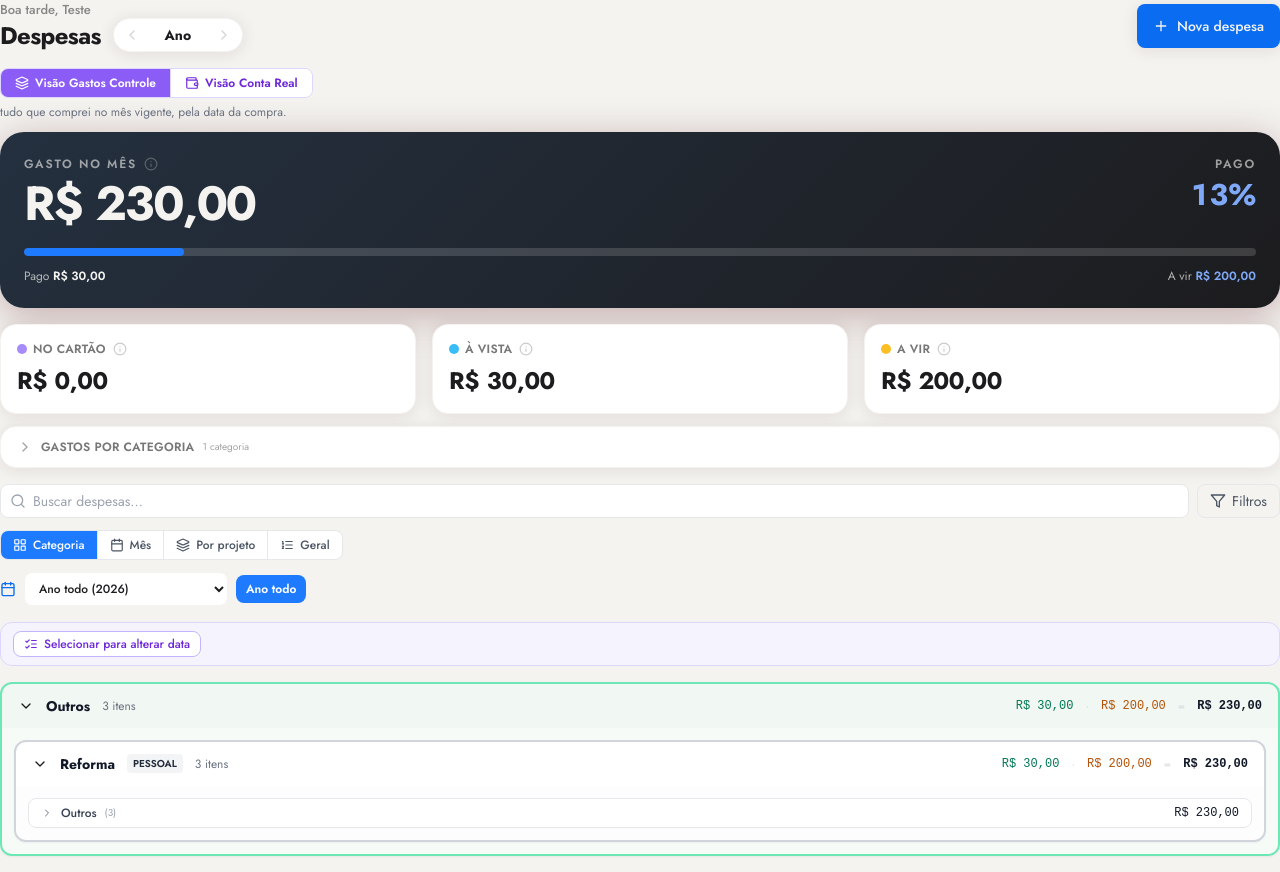
Scenario: ExpensesView — gate de import de extrato bancário (#218) › PESSOAL + hasModule('bankAccounts') true: 'Extrato bancário' presente
What coordinates should you click on to do the following:
click the button "Nova despesa"
I would click on:
 (1208, 26)
Its box is [1137, 4, 1279, 48].
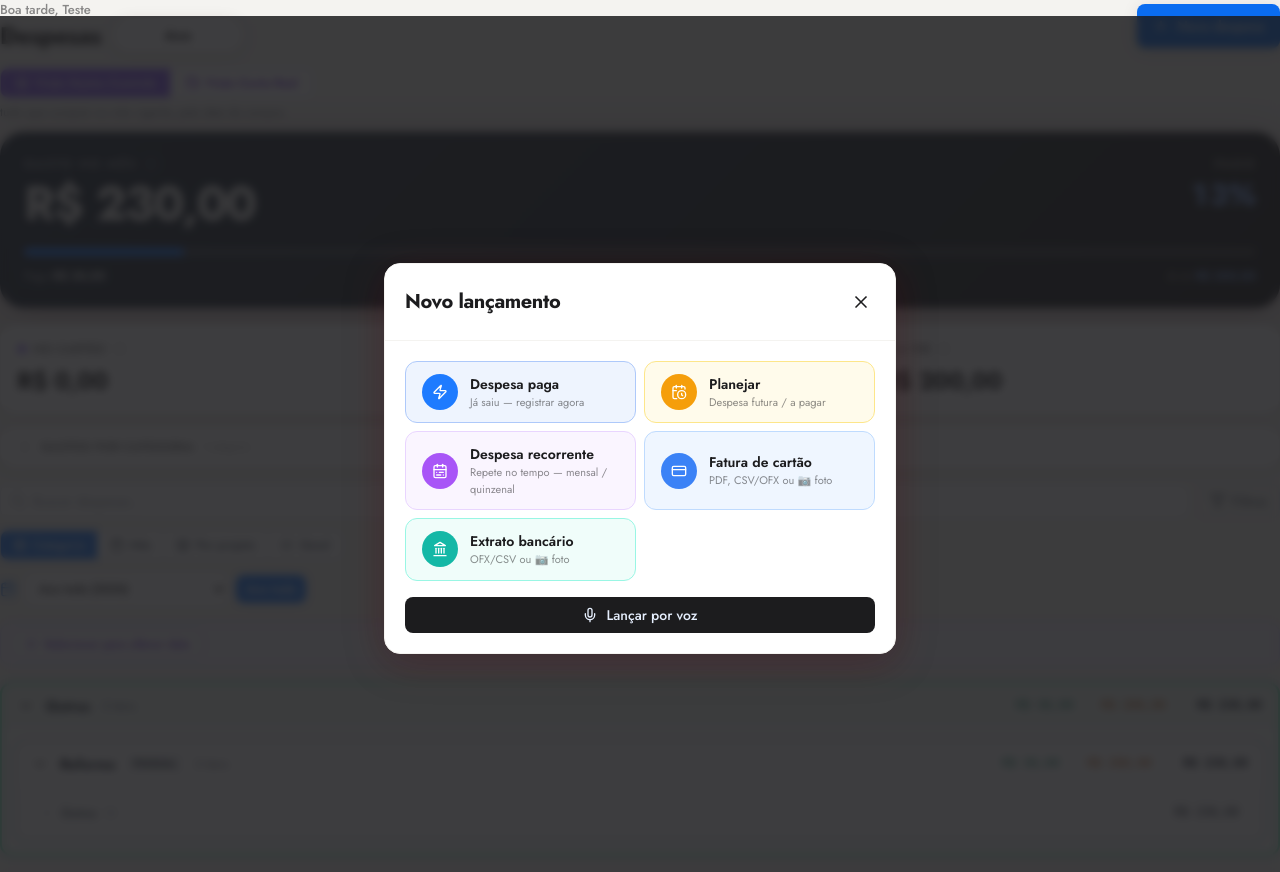
Expected: the button "Extrato bancário OFX/CSV ou 📷 foto" is shown, [405, 518, 636, 580]
